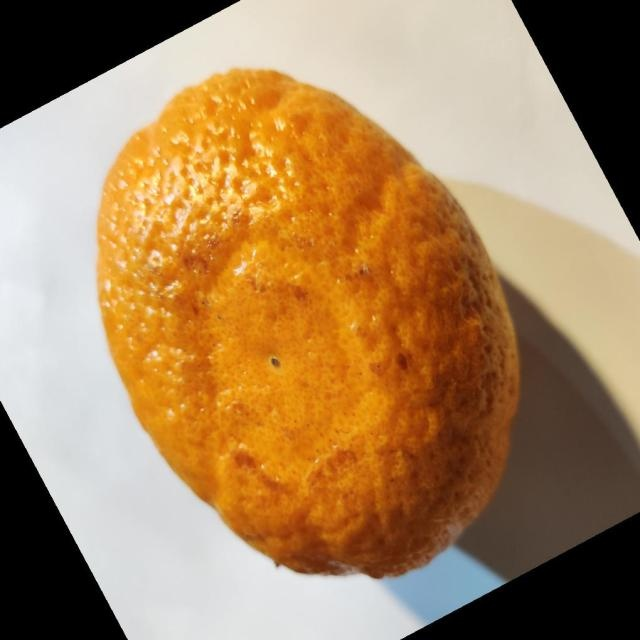agrume: (94, 65, 522, 579)
